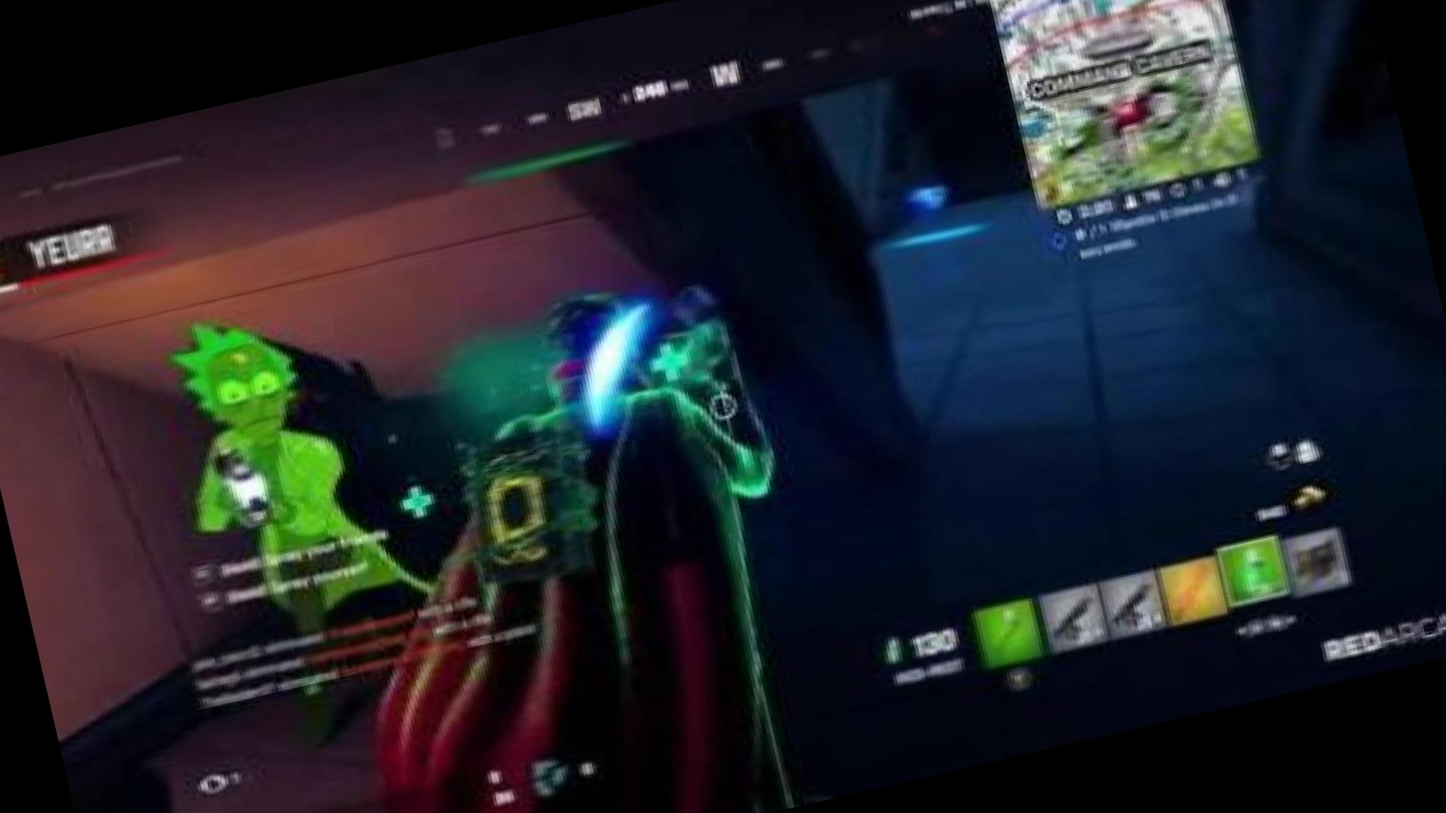player: (174, 299, 422, 694)
